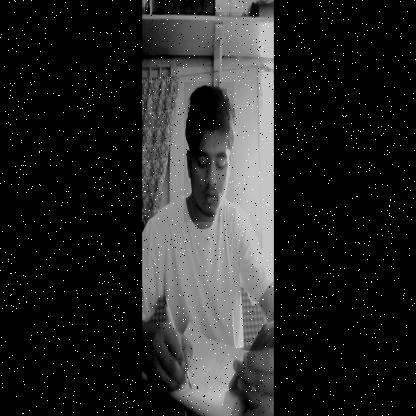Normal: (184, 82, 234, 222)
